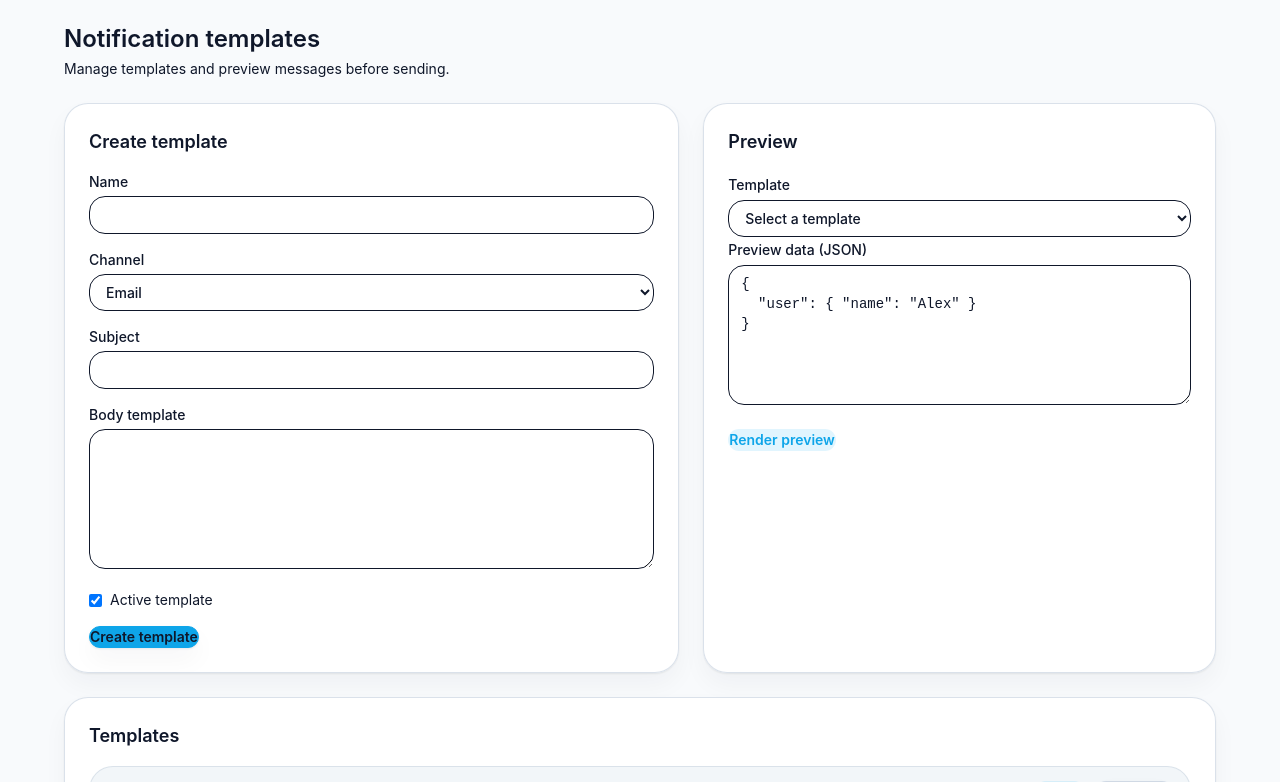
Test: admin notifications page › creates a template and adds it to the list
The width and height of the screenshot is (1280, 782).
Type "Reminder" into the field labelled "Name".
click(372, 215); type("Reminder")  # box [89,196,654,234]
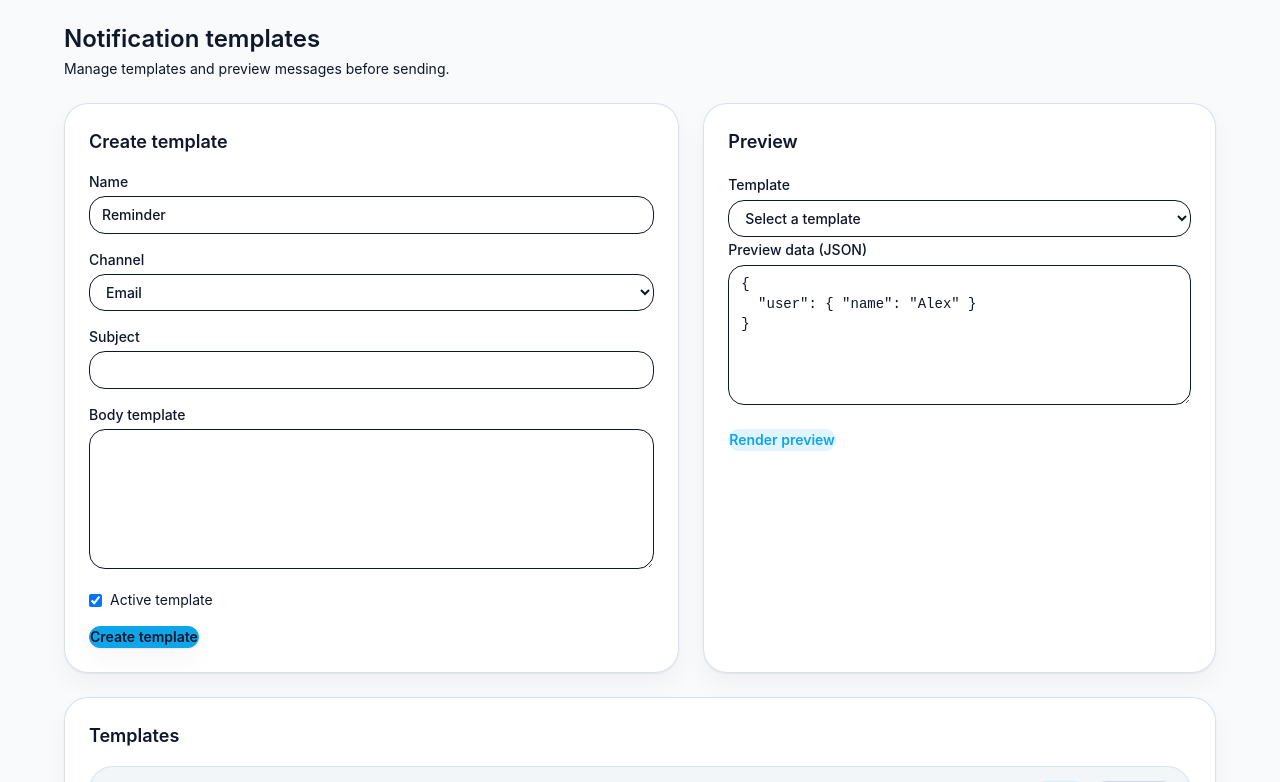
Type "Heads up" into the field labelled "Subject".
click(372, 370); type("Heads up")  # box [89,351,654,389]
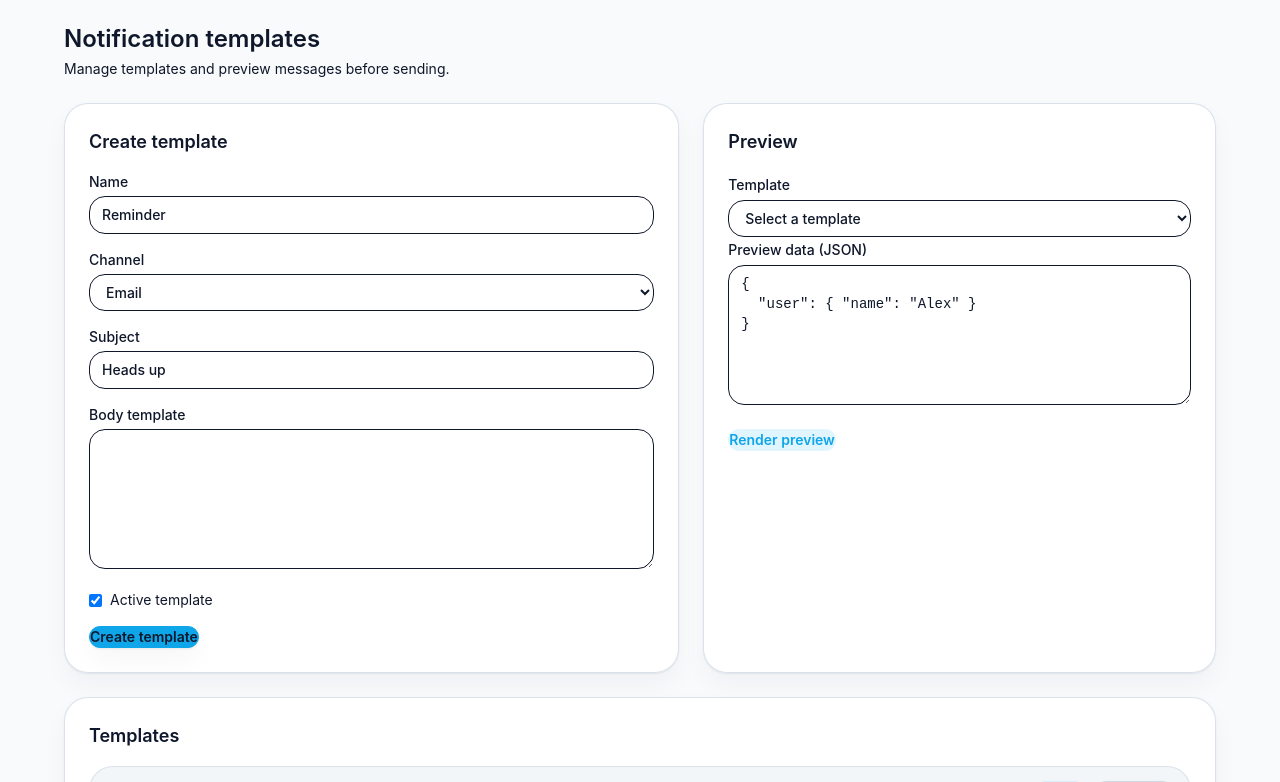
Type "Reminder body" into the text box labelled "Body template".
click(372, 499); type("Reminder body")  # box [89,429,654,569]
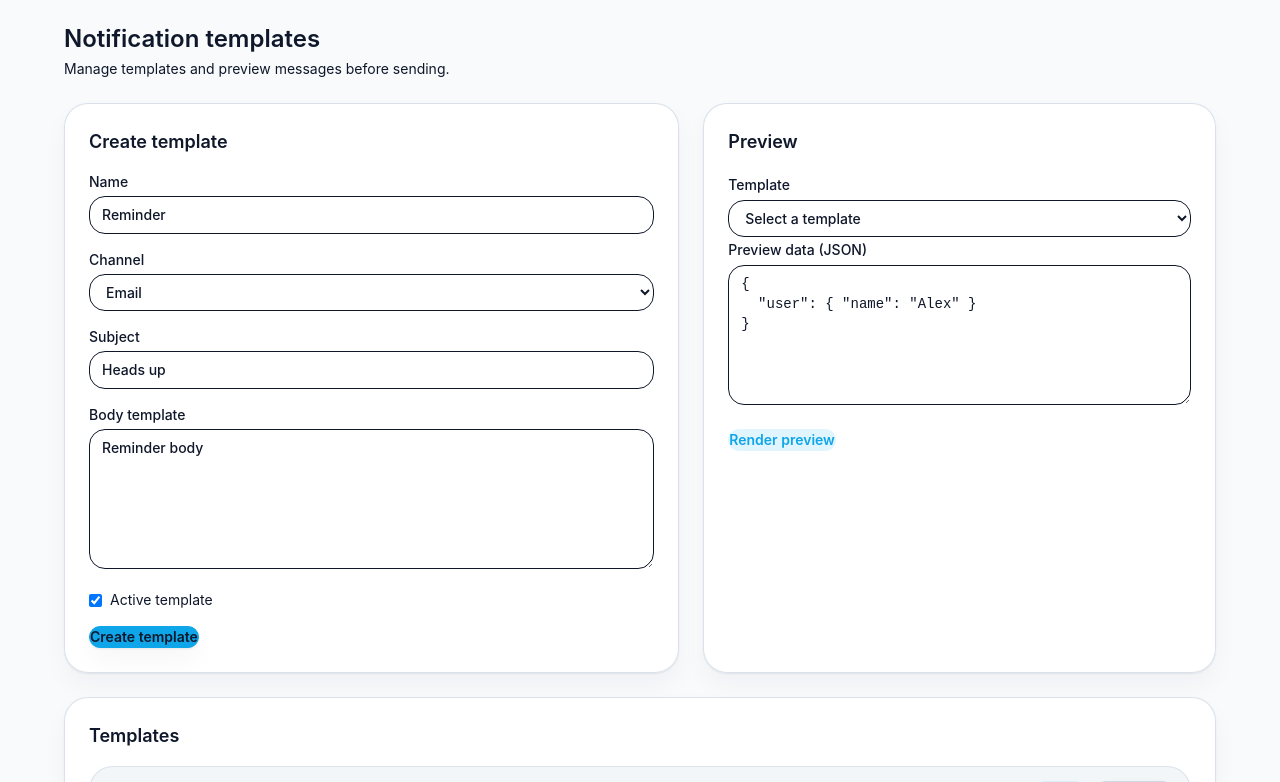
Click the button "Create template".
click(144, 637)  # box [89,626,199,648]
(page scrolled)
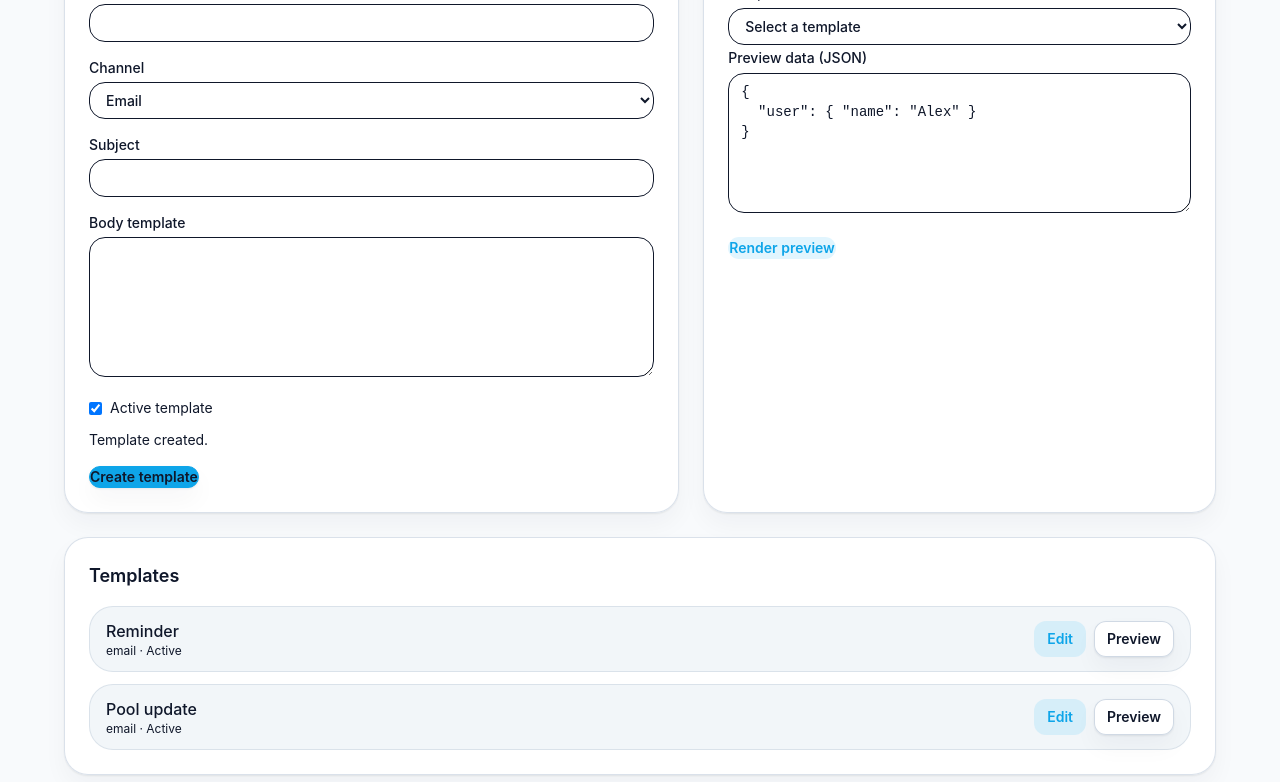
Expected: the element "Templates" is shown, [64,537,1216,775]
Now the message reads "Template created.", box [89,431,208,448]
Now the text "Reminder" is shown, box [106,619,182,643]
